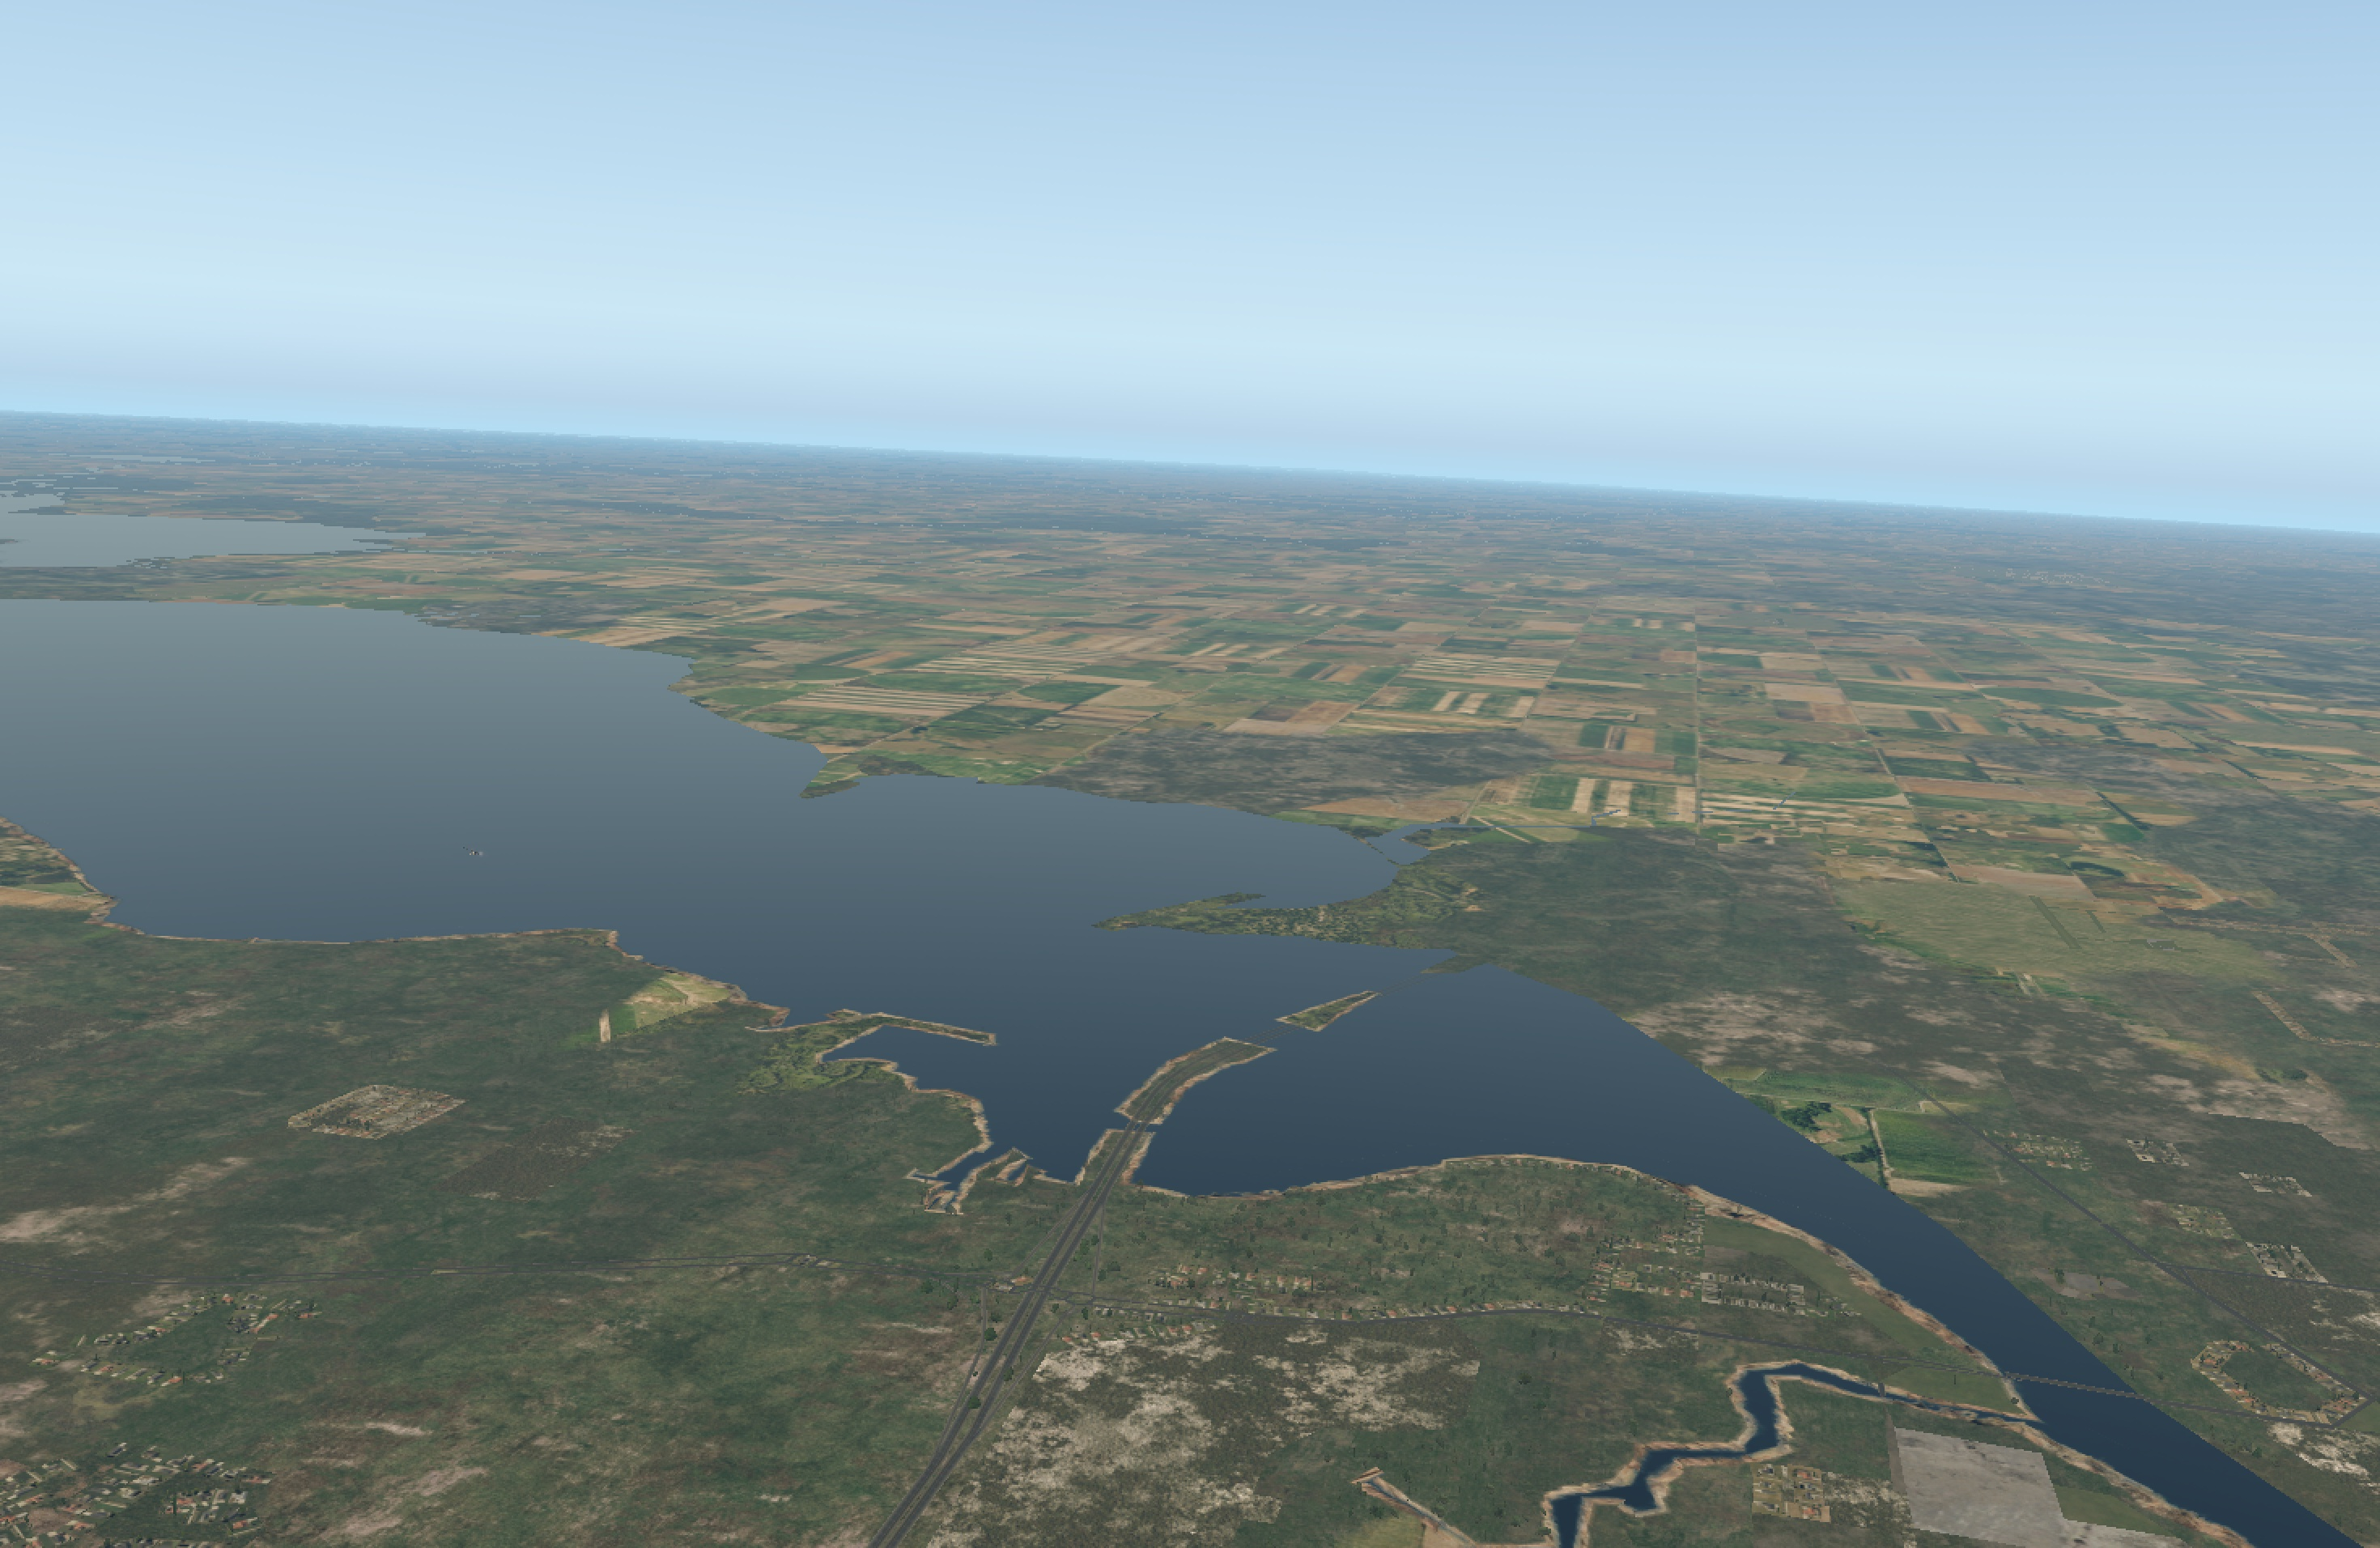aircraft: (467, 850, 482, 856)
